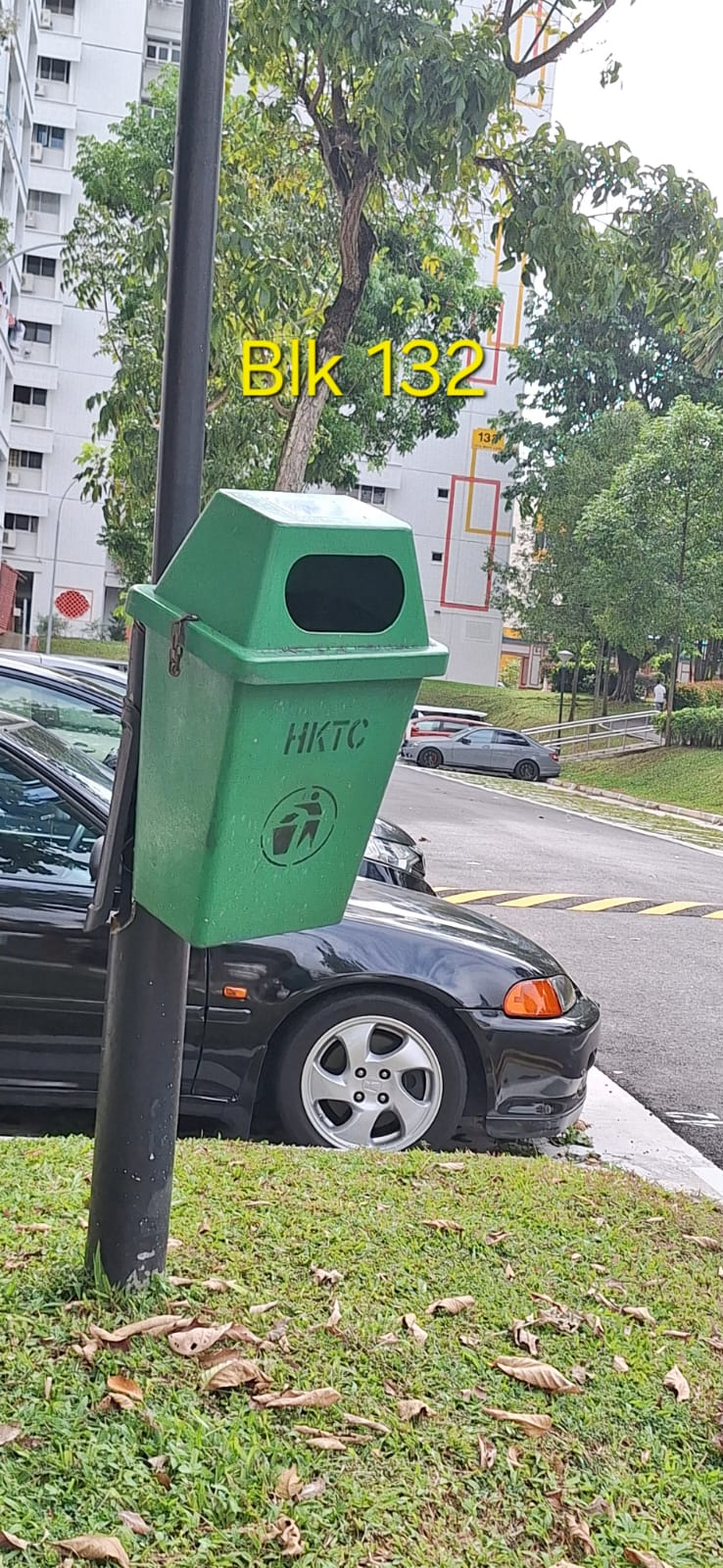bin_empty: (128, 490, 446, 948)
